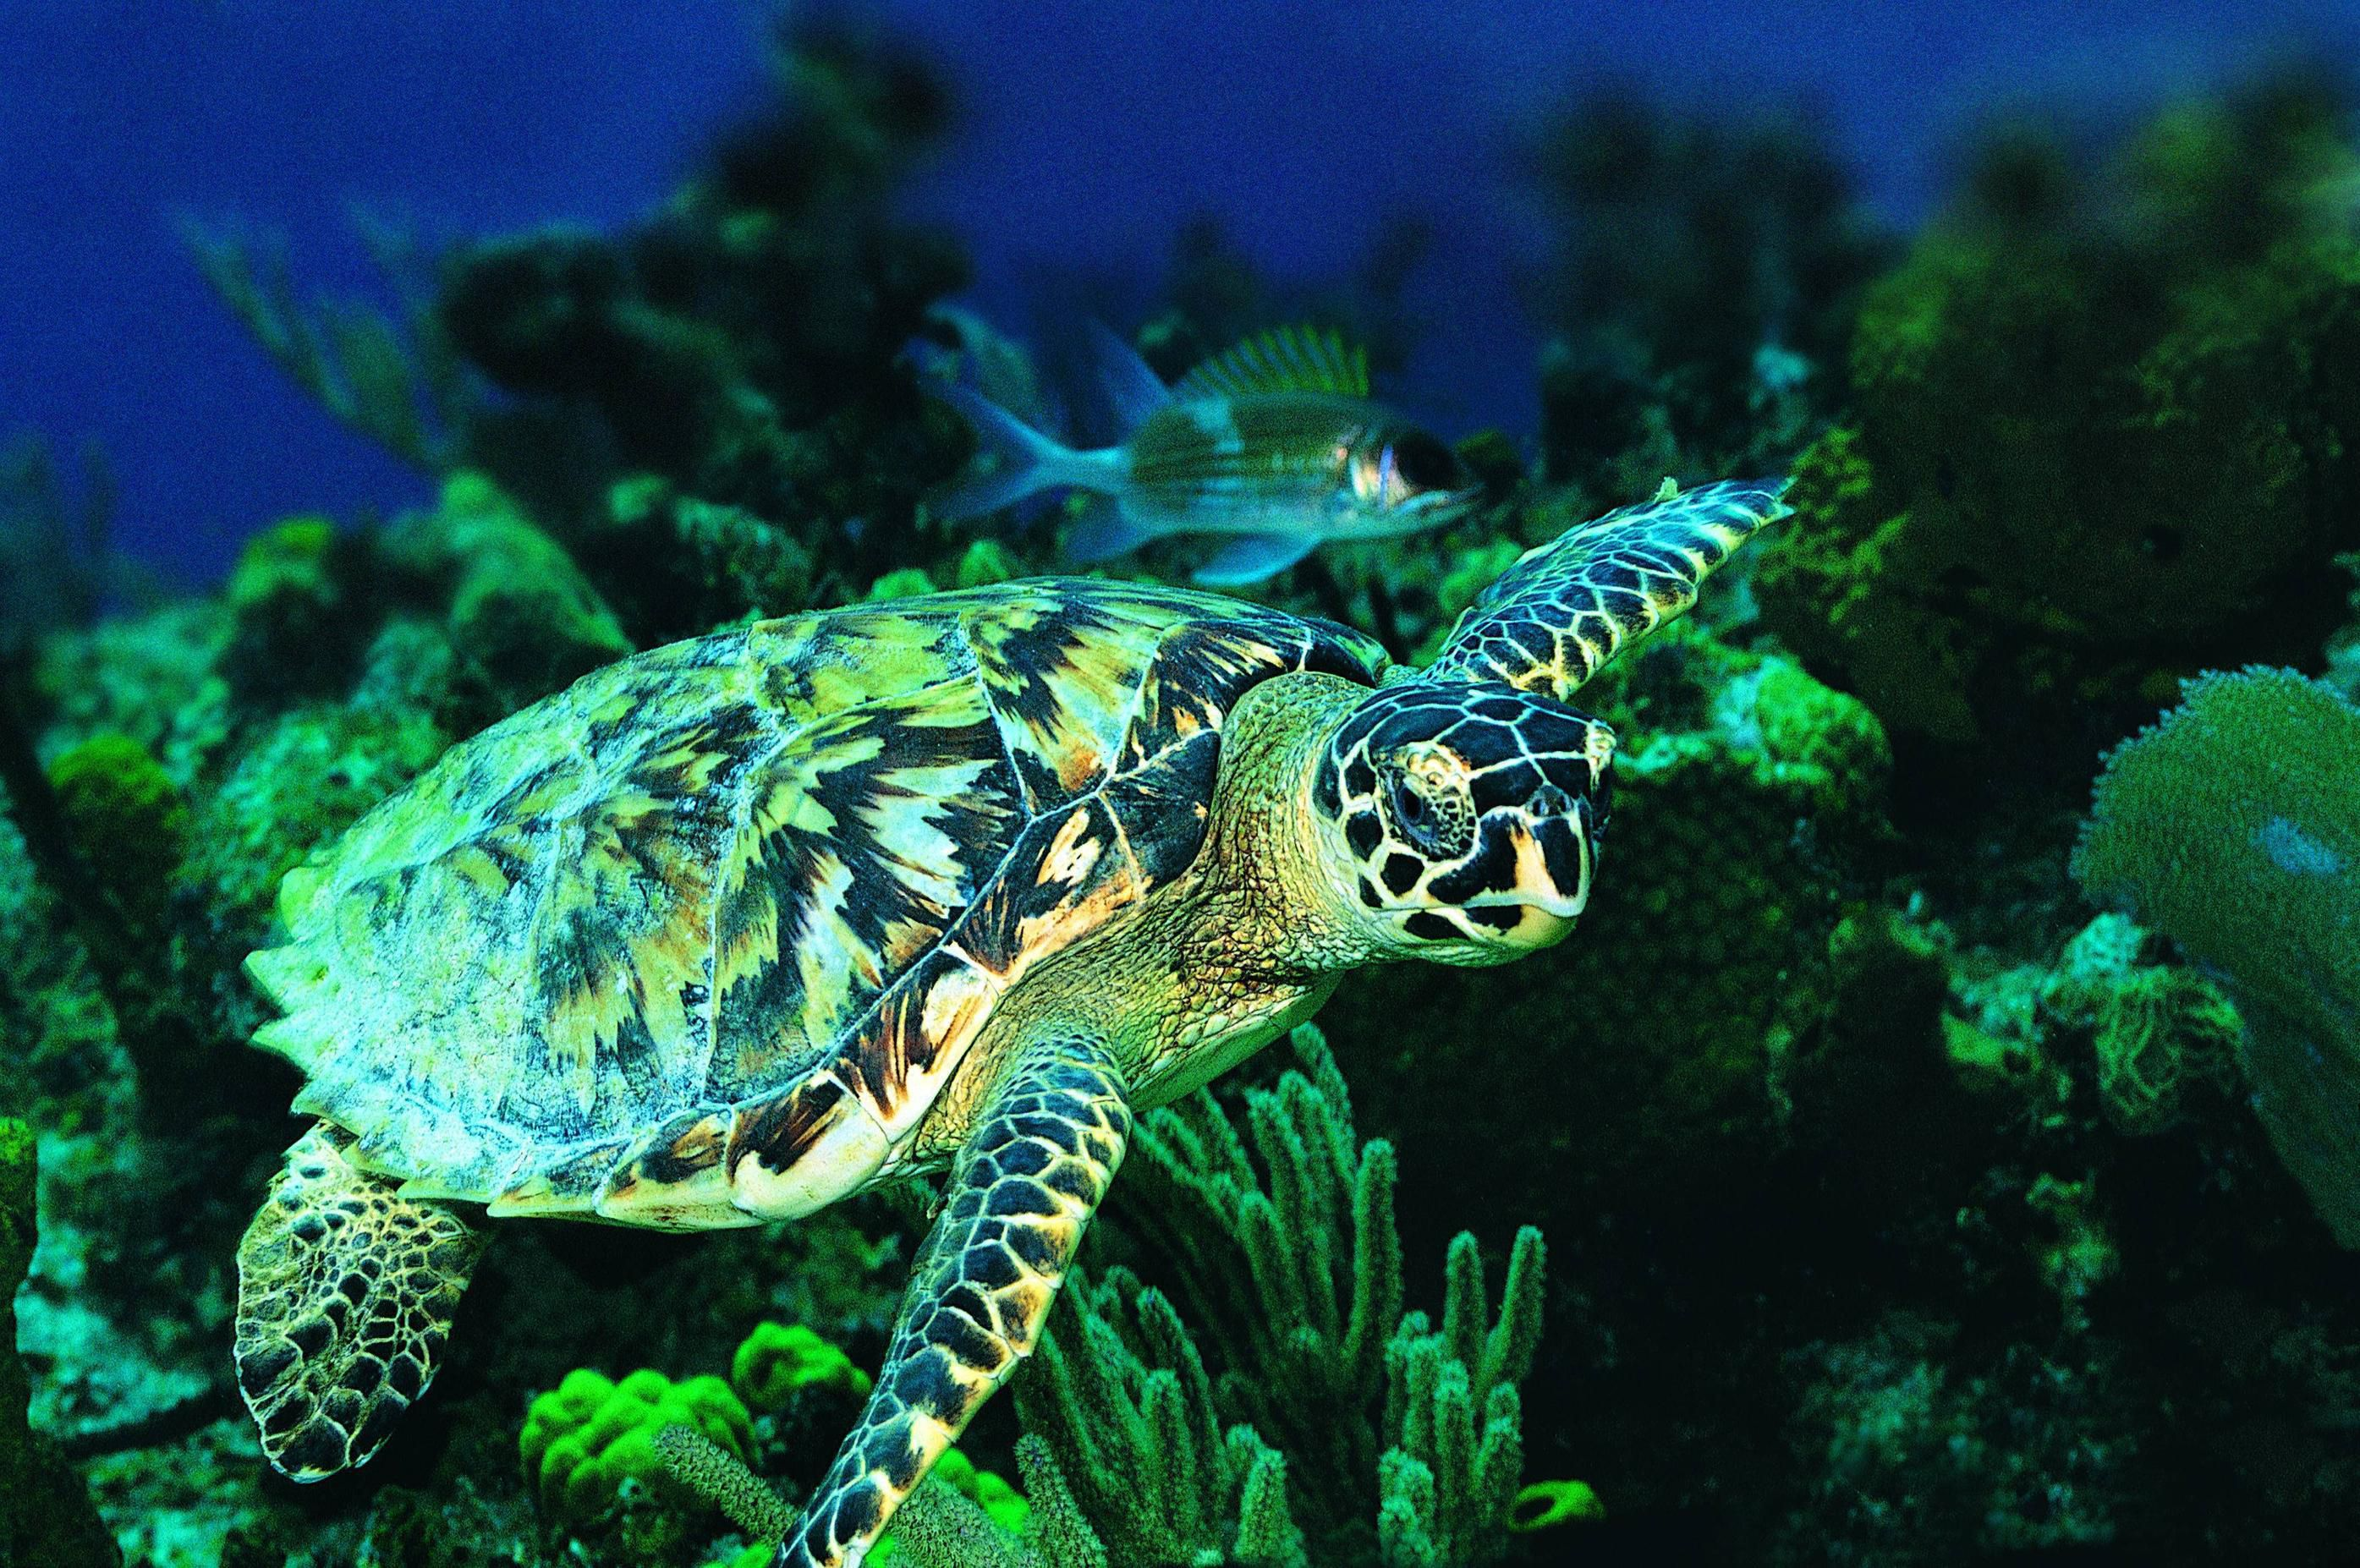eye: (1373, 747, 1480, 857), (1571, 712, 1629, 838)
mouth: (1358, 878, 1602, 959)
